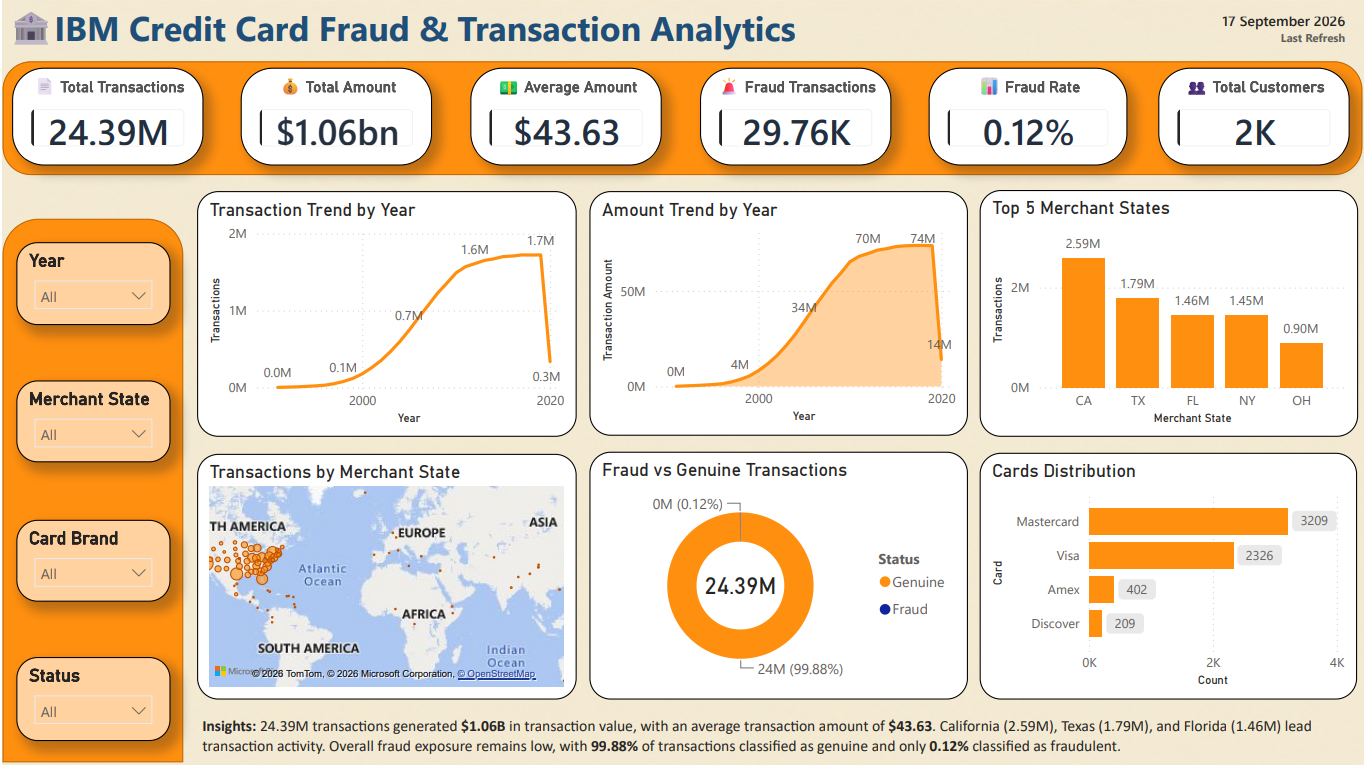

The dashboard page shown, as its layout file describes it:
{"tool":"powerbi","page":{"name":"Executive Overview","canvas":[1280,720],"ordinal":0},"visuals":[{"type":"shape","box":[0,207.4,169.6,510.3],"z":0},{"type":"cardVisual","title":"Last Refresh","fields":{"Data":["dim_cards.Last Refresh"]},"box":[1097.8,0,181.7,75.7],"z":1000},{"type":"shape","box":[0,59.5,1278.7,106.8],"z":2000},{"type":"textbox","box":[0,0,835.8,68.1],"z":3000},{"type":"cardVisual","title":"📄 Total Transactions","fields":{"Data":["Sum(vw_Executive_Summary.TotalTransactions)"]},"box":[8.6,67.7,180,90],"z":4000},{"type":"cardVisual","title":"💰 Total Amount","fields":{"Data":["Sum(vw_Executive_Summary.TotalTransactionAmount)"]},"box":[224.3,68,180,90],"z":5000},{"type":"cardVisual","title":"💵 Average Amount","fields":{"Data":["Sum(vw_Executive_Summary.AverageTransactionAmount)"]},"box":[439.9,68,180,90],"z":6000},{"type":"cardVisual","title":"🚨 Fraud Transactions","fields":{"Data":["Sum(vw_Executive_Summary.FraudTransactions)"]},"box":[655.6,68,180,90],"z":7000},{"type":"cardVisual","title":"📊  Fraud Rate","fields":{"Data":["Card Analysis.Fraud Rate %"]},"box":[870.7,68.1,187.8,89.3],"z":8000},{"type":"cardVisual","title":"👥 Total Customers","fields":{"Data":["Sum(vw_Executive_Summary.TotalCustomers)"]},"box":[1087,67.7,180,90],"z":9000},{"type":"slicer","title":"Year","fields":{"Values":["Fraud Analysis.Year"]},"box":[12.6,229.2,145,77.4],"z":10000},{"type":"slicer","title":"Card Brand","fields":{"Values":["vw_Card_Analysis_updated.CardBrand"]},"box":[12.6,489.8,145,77.4],"z":11000},{"type":"slicer","title":"Status","fields":{"Values":["vw_Fraud_Status.FraudStatus"]},"box":[12.6,619.2,145,78.9],"z":12000},{"type":"lineChart","title":"Transaction Trend by Year","fields":{"Category":["vw_Yearly_Trend.Year"],"Y":["Sum(vw_Yearly_Trend.TotalTransactions)"]},"box":[182.9,180.7,357.4,231.7],"z":13000},{"type":"donutChart","title":"Fraud vs Genuine Transactions","fields":{"Category":["vw_Fraud_Status.FraudStatus"],"Y":["Sum(Fraud Status.TotalTransactions)"]},"box":[552.4,426,355.8,233.2],"z":14000},{"type":"areaChart","title":"Amount Trend by Year","fields":{"Category":["vw_Yearly_Trend.Year"],"Y":["Sum(vw_Yearly_Trend.TotalAmount)"]},"box":[552.4,180.7,355.8,230.2],"z":15000},{"type":"columnChart","title":"Top 5 Merchant States    ","fields":{"Category":["vw_Merchant_Analysis_updated.MerchantState"],"Y":["Sum(Merchant Analysis.TotalTransactions)"]},"box":[918.6,180.1,356,232],"z":16000},{"type":"barChart","title":"Cards Distribution","fields":{"Category":["vw_Card_Analysis_updated.CardBrand"],"Y":["Sum(Card Analysis.TotalCards)"]},"box":[919.2,426.8,355.3,232.2],"z":17000},{"type":"slicer","title":"Merchant State","fields":{"Values":["Merchant Analysis.MerchantState"]},"box":[12.7,358.7,145,77.4],"z":18000},{"type":"map","title":"Transactions by Merchant State","fields":{"Category":["Merchant Analysis.MerchantState"],"Size":["Sum(Merchant Analysis.TotalTransactions)"]},"box":[182.9,427.5,357.4,231.7],"z":19000},{"type":"textbox","box":[182.6,670.4,1095.4,47.6],"z":20000}]}

Visuals, with their boxes in screenshot pixels (x1, y1, x2, y2), scaled from the page's 1280x720 canvas onto the 1364x765 screenshot:
shape: rect(0, 220, 181, 763)
"Last Refresh" cardVisual: rect(1170, 0, 1363, 80)
shape: rect(0, 63, 1363, 177)
textbox: rect(0, 0, 891, 72)
"📄 Total Transactions" cardVisual: rect(9, 72, 201, 168)
"💰 Total Amount" cardVisual: rect(239, 72, 431, 168)
"💵 Average Amount" cardVisual: rect(469, 72, 661, 168)
"🚨 Fraud Transactions" cardVisual: rect(699, 72, 890, 168)
"📊  Fraud Rate" cardVisual: rect(928, 72, 1128, 167)
"👥 Total Customers" cardVisual: rect(1158, 72, 1350, 168)
"Year" slicer: rect(13, 244, 168, 326)
"Card Brand" slicer: rect(13, 520, 168, 603)
"Status" slicer: rect(13, 658, 168, 742)
"Transaction Trend by Year" lineChart: rect(195, 192, 576, 438)
"Fraud vs Genuine Transactions" donutChart: rect(589, 453, 968, 700)
"Amount Trend by Year" areaChart: rect(589, 192, 968, 437)
"Top 5 Merchant States    " columnChart: rect(979, 191, 1358, 438)
"Cards Distribution" barChart: rect(980, 453, 1358, 700)
"Merchant State" slicer: rect(14, 381, 168, 463)
"Transactions by Merchant State" map: rect(195, 454, 576, 700)
textbox: rect(195, 712, 1362, 763)
